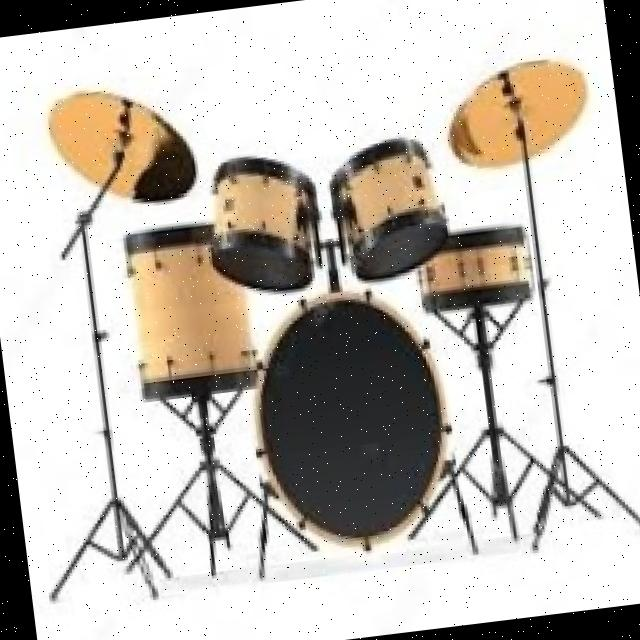drums: (35, 19, 640, 584)
